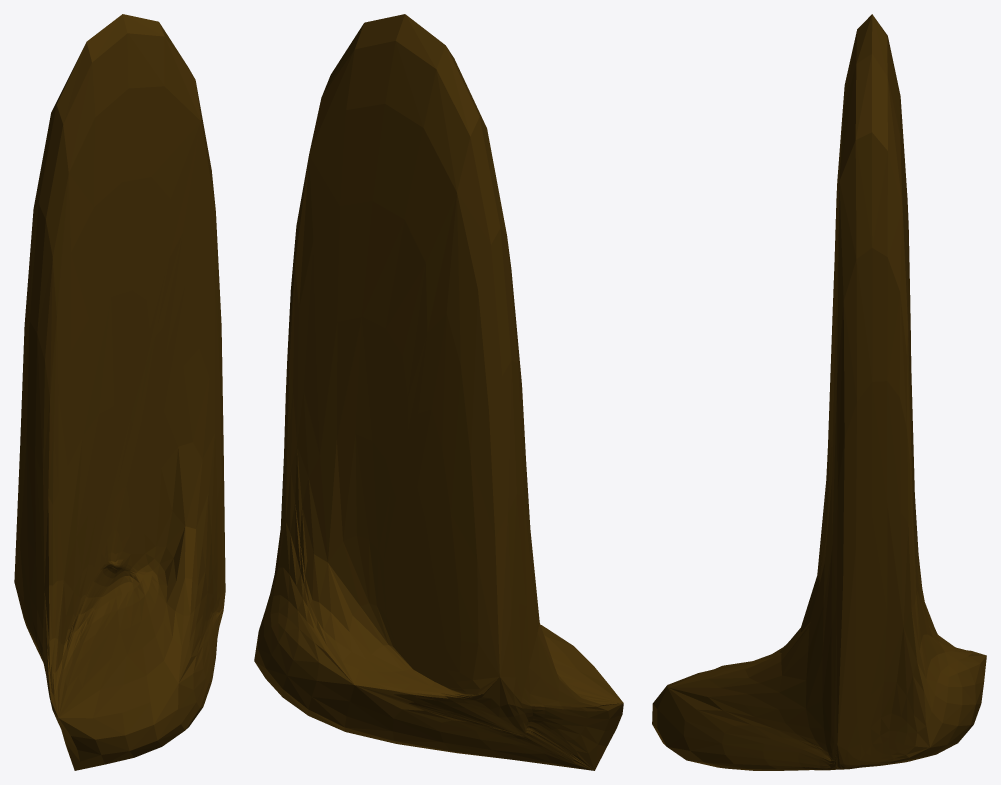
3 views of the same model, side by side, from view 1: azimuth 30°, elevation 25°; view 2: azimuth 150°, elevation 25°; view 3: azimuth 270°, elevation 25° (orthographic). The views are drawn at different scales.
Parts seen in each view (by area): view 1: 142_Cube.591; view 2: 142_Cube.591; view 3: 142_Cube.591.
Part boxes in pixels (x1=…): 142_Cube.591: x1=14, y1=14, x2=225, y2=770; 142_Cube.591: x1=254, y1=14, x2=623, y2=770; 142_Cube.591: x1=652, y1=14, x2=986, y2=770.
Bounding box in the file's own units: 4.71 × 13.02 × 4.97.
